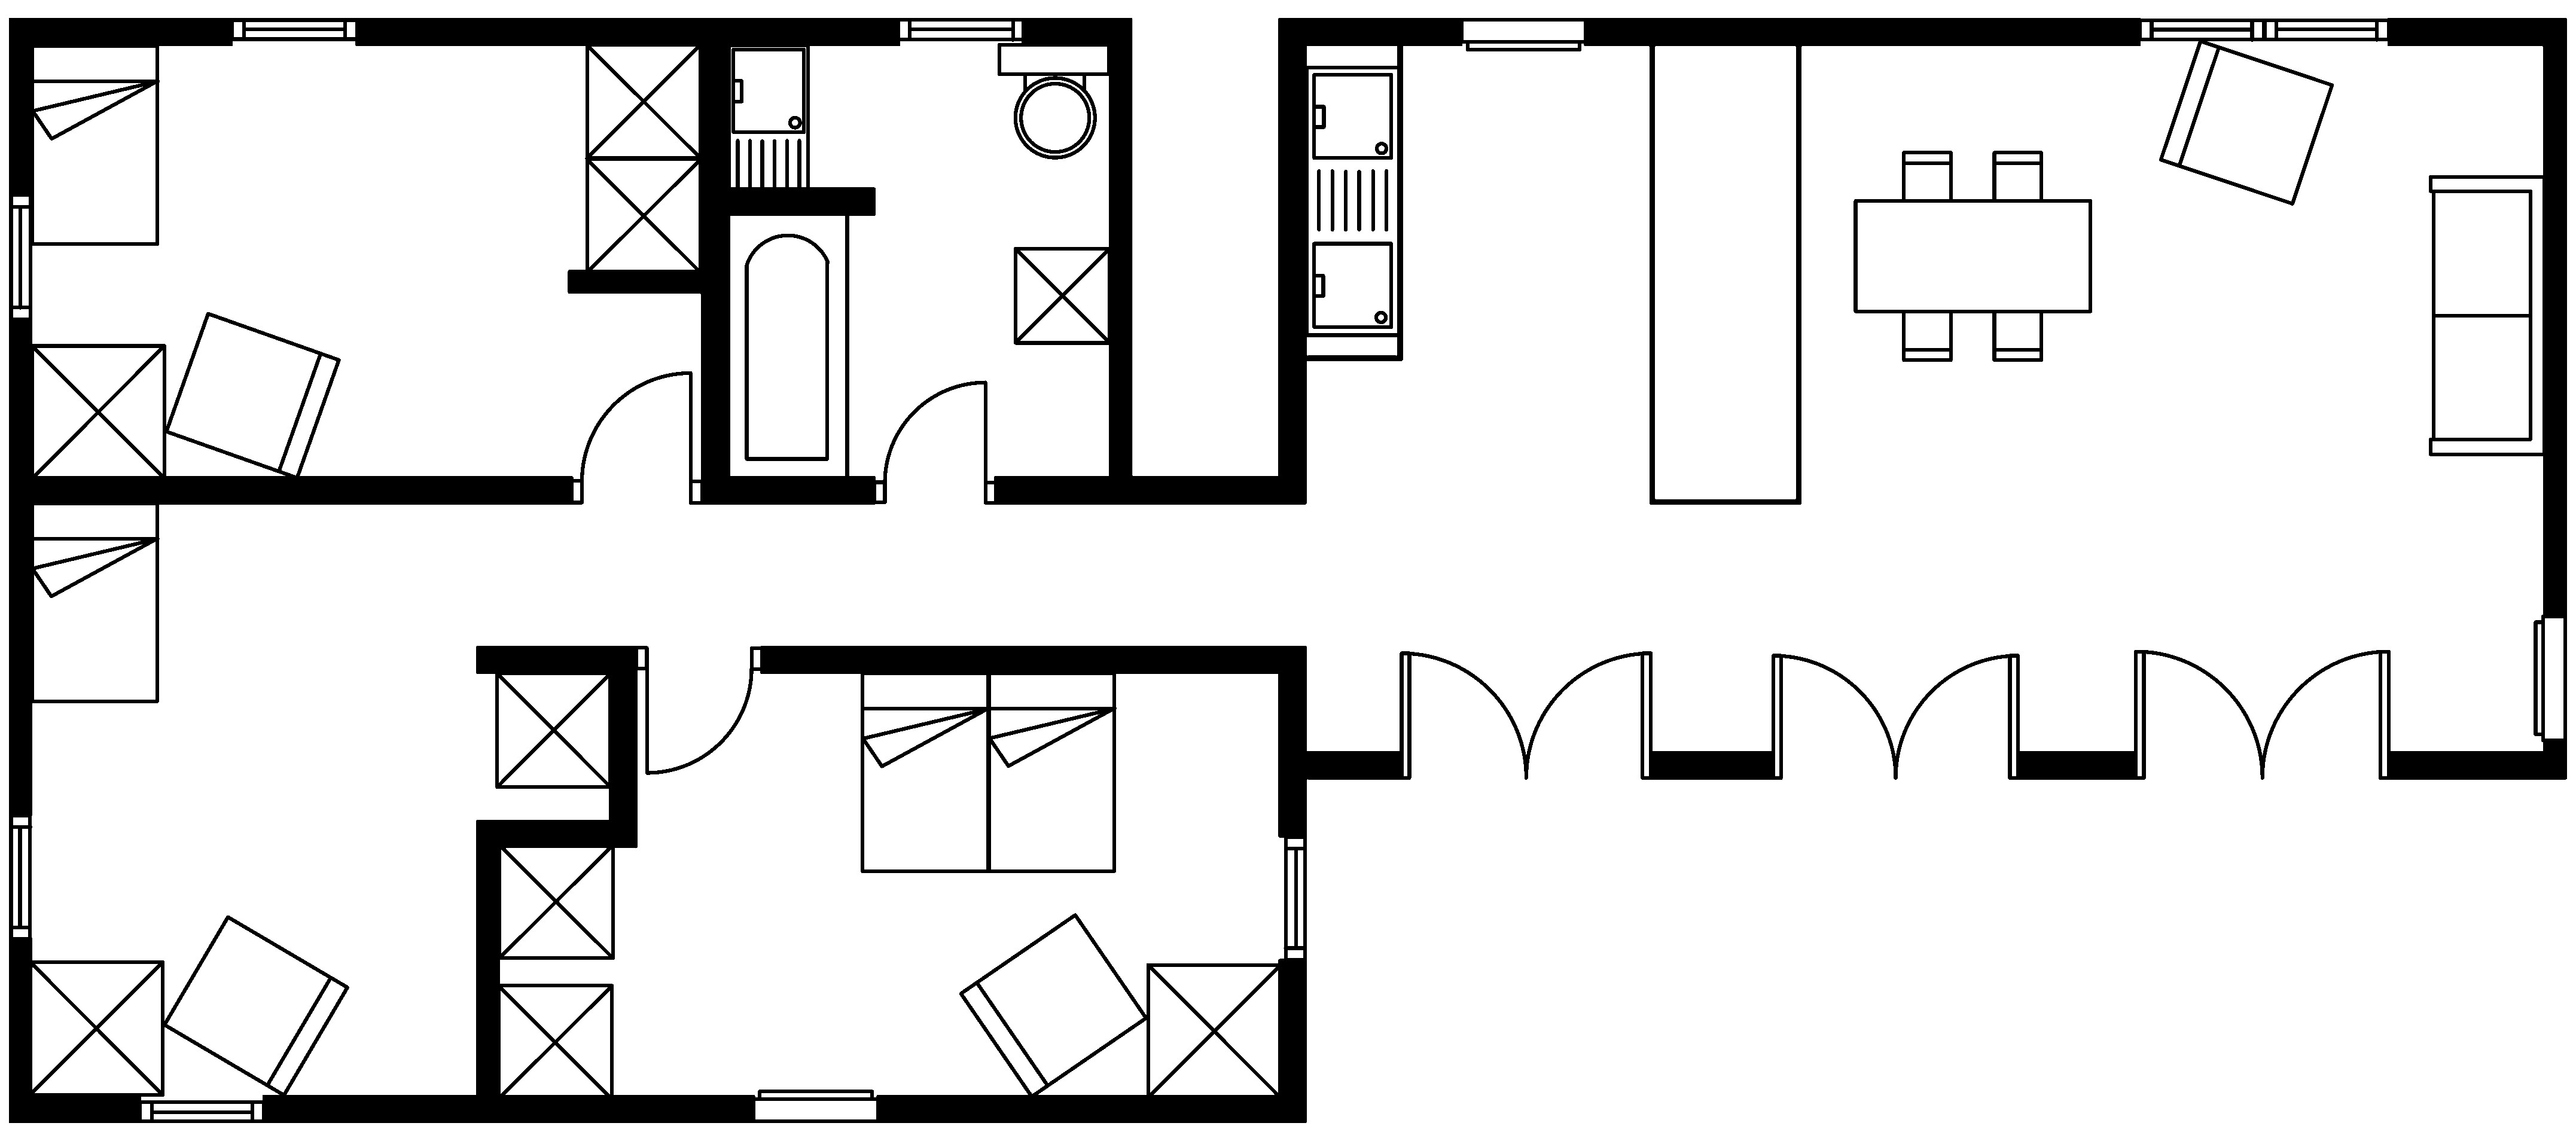bed: (28, 501, 159, 703), (859, 670, 991, 872), (986, 670, 1117, 872), (30, 43, 159, 246)
coffee_table: (26, 959, 164, 1097), (1145, 963, 1283, 1099), (30, 343, 166, 480), (583, 41, 702, 161), (494, 982, 614, 1101), (494, 670, 613, 789), (496, 841, 614, 959), (585, 156, 702, 274), (1012, 246, 1112, 345)
dining_table: (1853, 150, 2093, 361)
large_sink: (997, 41, 1111, 158)
large_sofa: (2428, 174, 2546, 457)
sink: (726, 43, 810, 209)
small_sofa: (958, 912, 1148, 1099), (161, 915, 350, 1097), (163, 311, 342, 480), (2159, 38, 2334, 205)
tub: (726, 210, 849, 483)
twin_sink: (1304, 64, 1401, 337)
